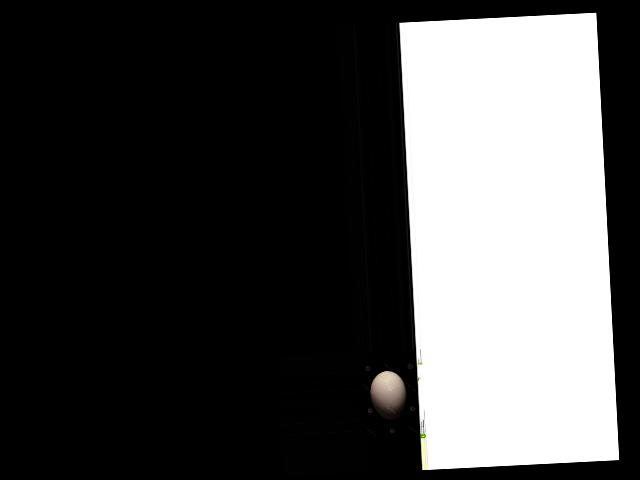egg: (369, 369, 408, 420)
